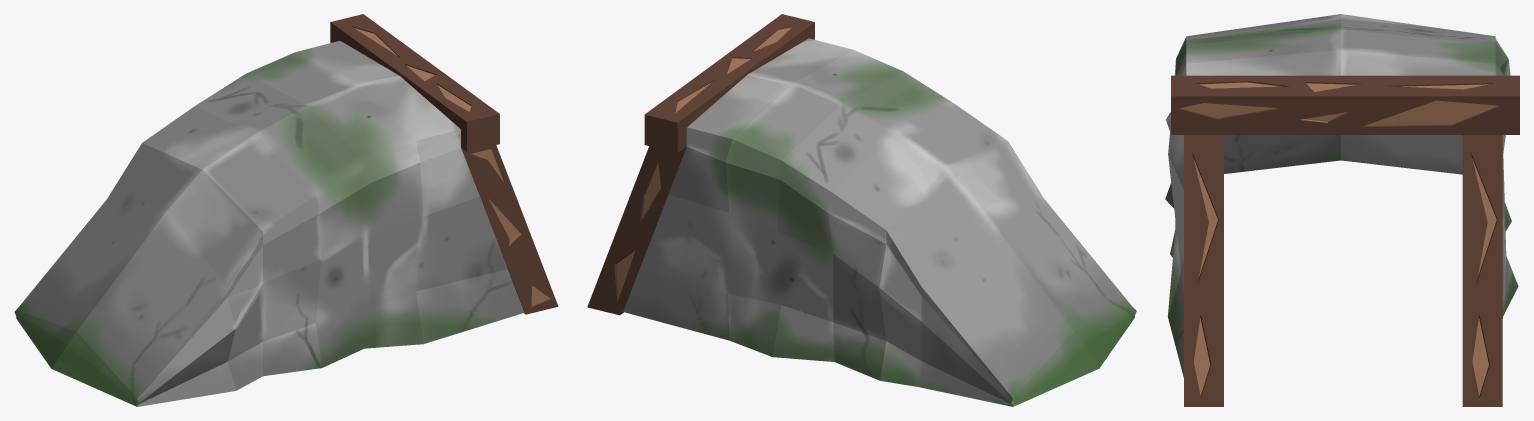
The model's file is Sortie tunnel chariot.fbx.
3 renders of one model, left to right at view 1: azimuth 30°, elevation 25°; view 2: azimuth 150°, elevation 25°; view 3: azimuth 270°, elevation 25°, orthographic. The views are drawn at different scales.
Visible parts, largest first — view 1: tunnel en pierre, planche bois haut, planche bois droit; view 2: tunnel en pierre, planche bois haut, planche bois droit.001; view 3: tunnel en pierre, planche bois haut, planche bois droit.001, planche bois droit.
Part boxes in pixels (box(x1,y1,x2,y2)): tunnel en pierre: box(14, 40, 524, 406); planche bois haut: box(330, 14, 499, 151); planche bois droit: box(461, 145, 558, 314); tunnel en pierre: box(623, 38, 1136, 406); planche bois haut: box(644, 14, 814, 152); planche bois droit.001: box(587, 146, 686, 315); tunnel en pierre: box(1165, 14, 1518, 377); planche bois haut: box(1171, 75, 1519, 134); planche bois droit.001: box(1462, 135, 1502, 406); planche bois droit: box(1184, 135, 1223, 406).
Bounding box in the file's own units: 1242 × 564 × 670.
Materials: 5 (1 with a texture image).
